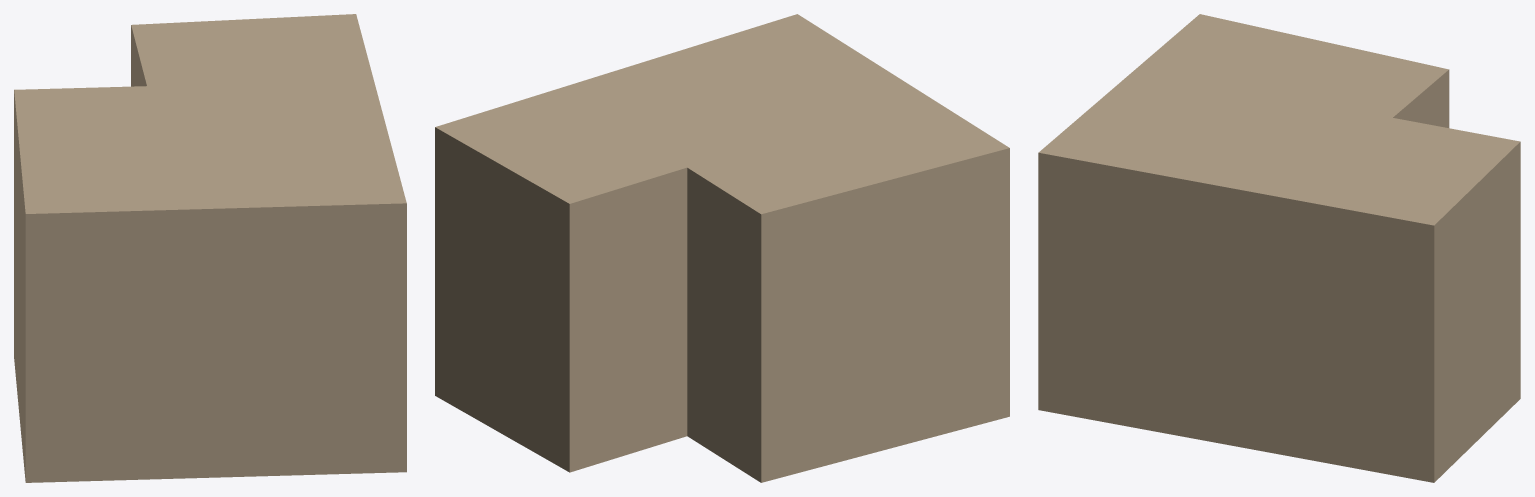
The model's file is bld_99020391.dae.
3 renders of one model, left to right at view 1: azimuth 30°, elevation 25°; view 2: azimuth 150°, elevation 25°; view 3: azimuth 270°, elevation 25°, orthographic. The views are drawn at different scales.
Visible parts, largest first — view 1: bld_99020391; view 2: bld_99020391; view 3: bld_99020391.
Part boxes in pixels (x1,y1,x2,y2): bld_99020391: [14, 14, 406, 482]; bld_99020391: [435, 14, 1009, 482]; bld_99020391: [1038, 14, 1520, 482].
Bounding box in the file's own units: 14.1 × 13.58 × 8.
